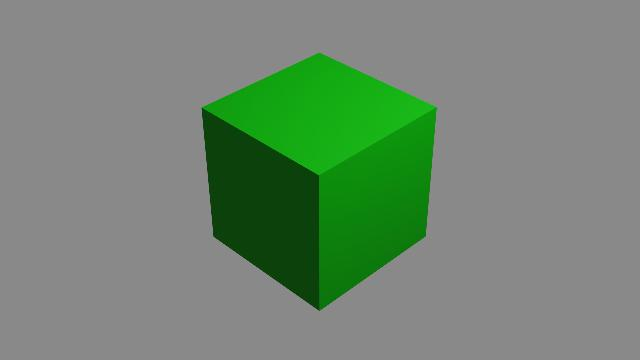Cube: (192, 44, 456, 318)
